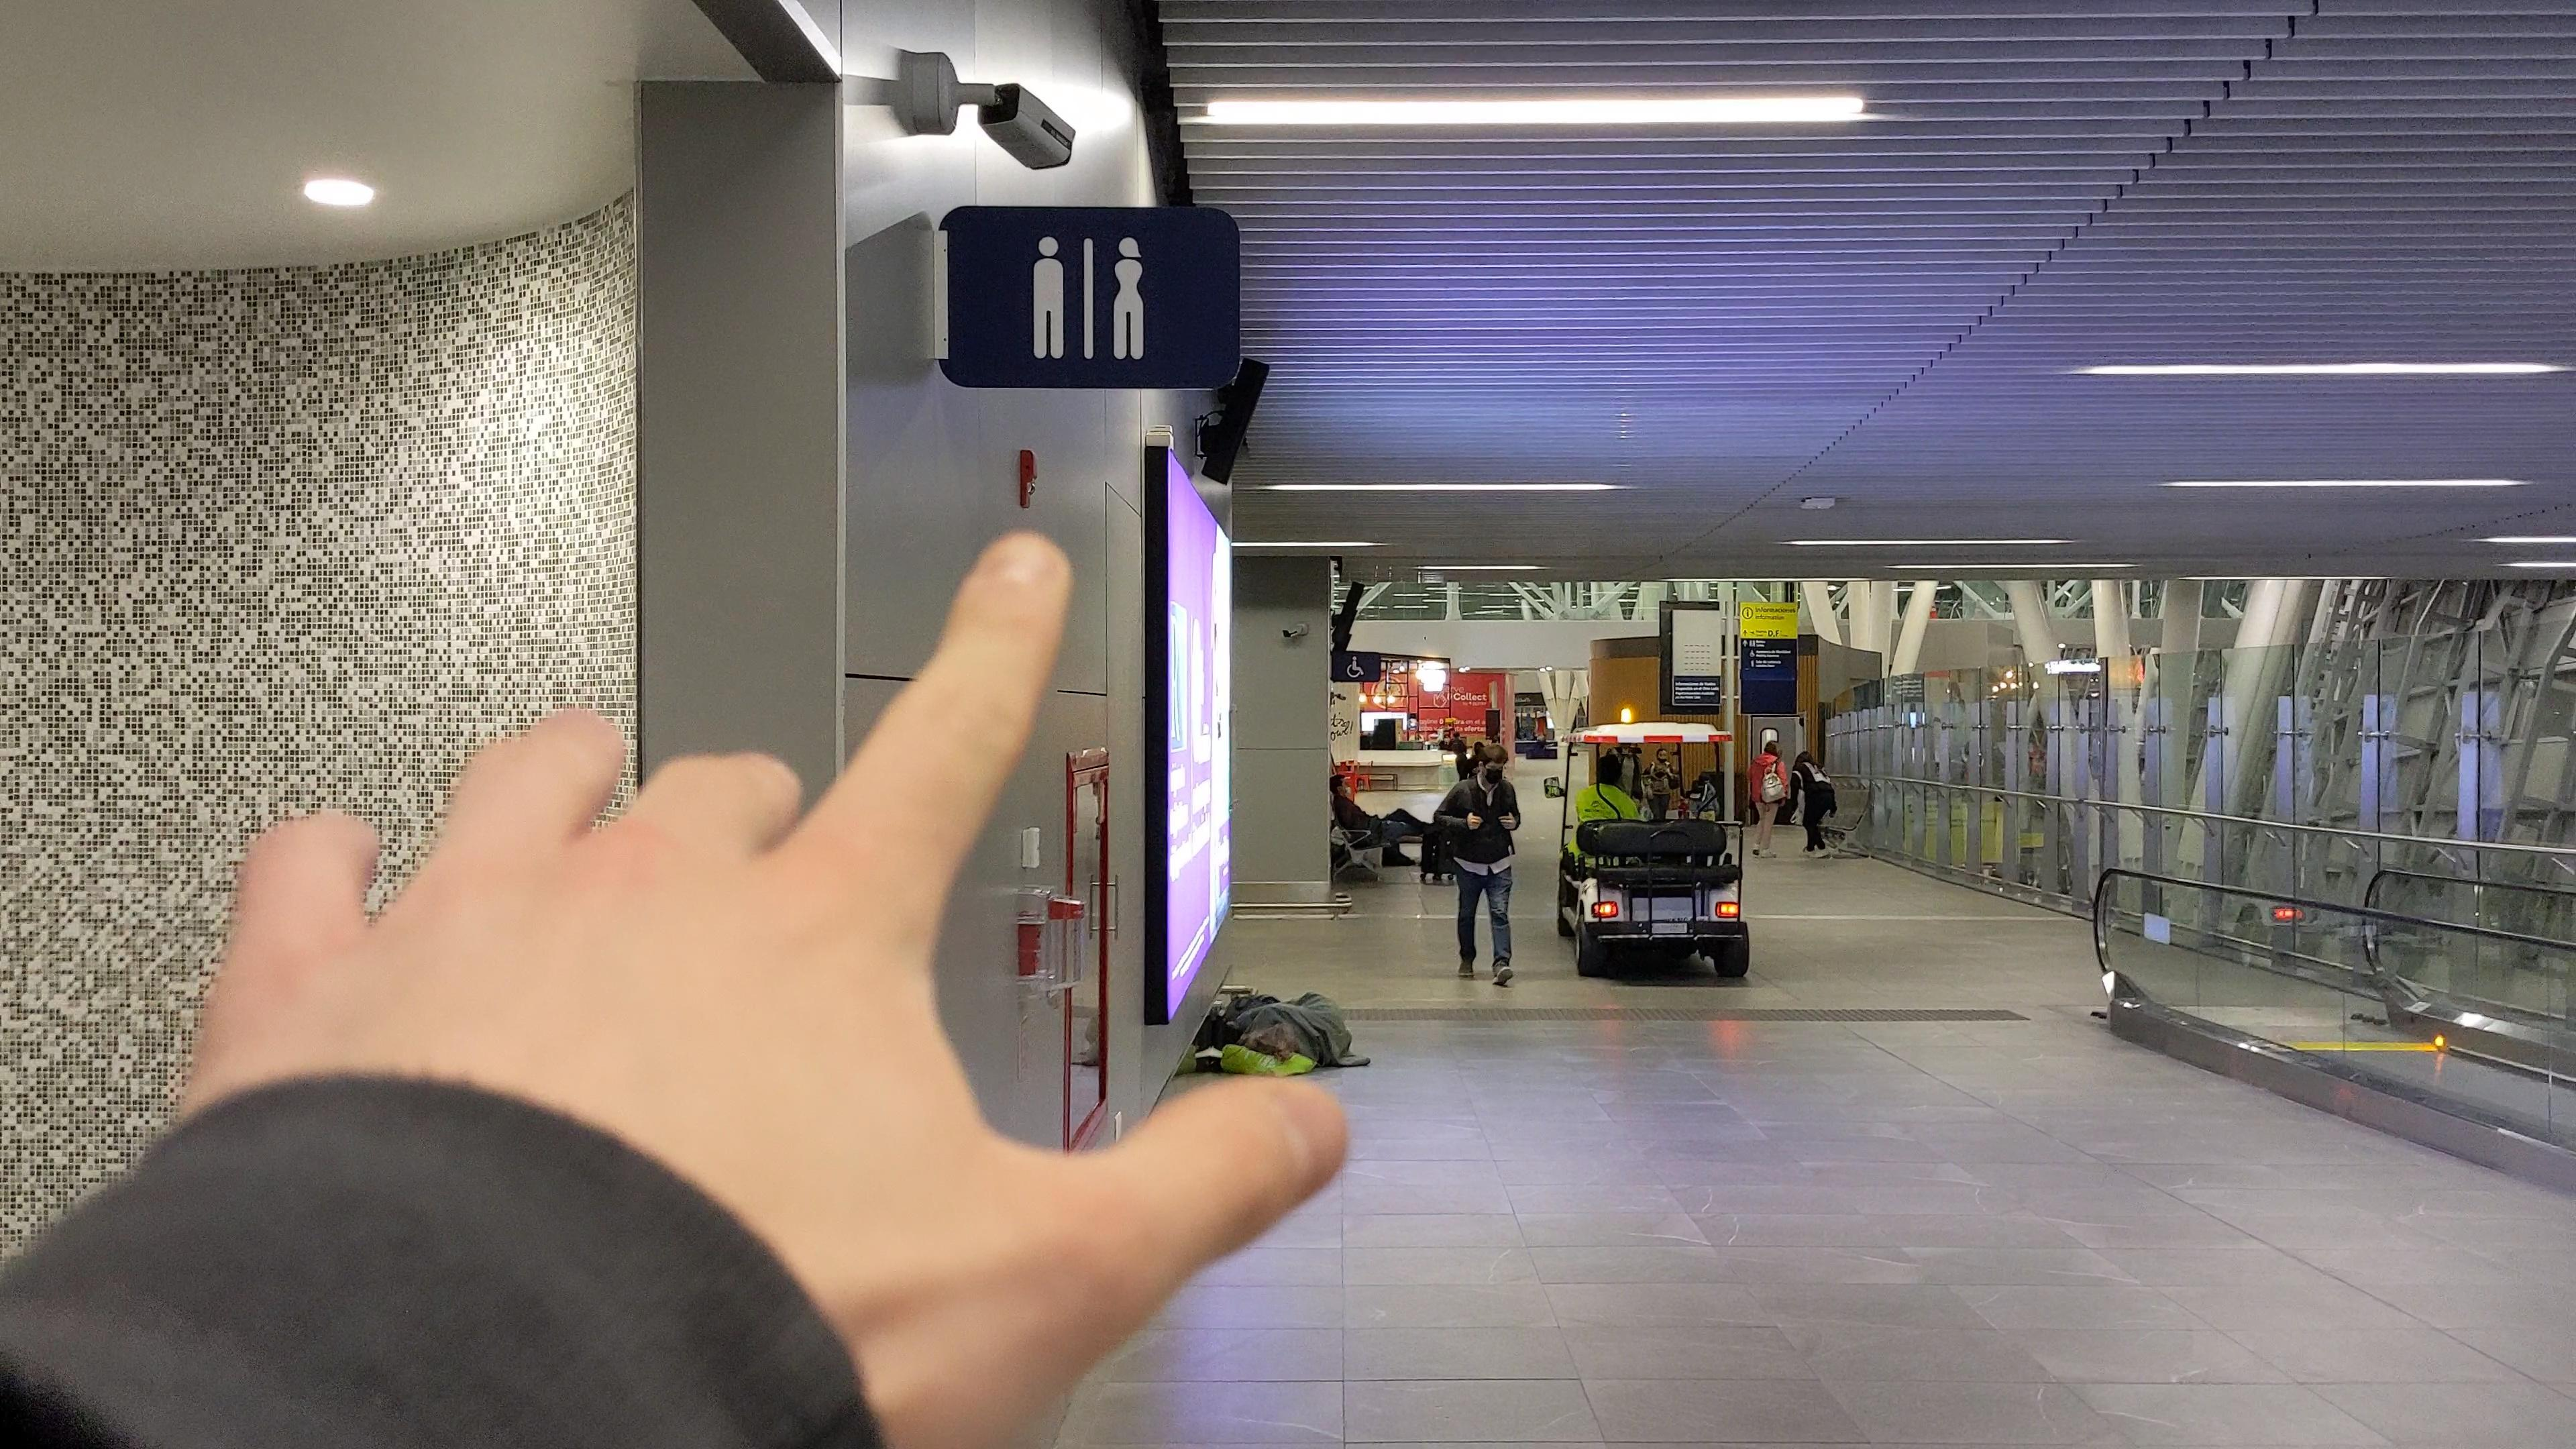bathrooms: (1023, 228, 1152, 366)
up arrow: (1743, 640, 1748, 648)
